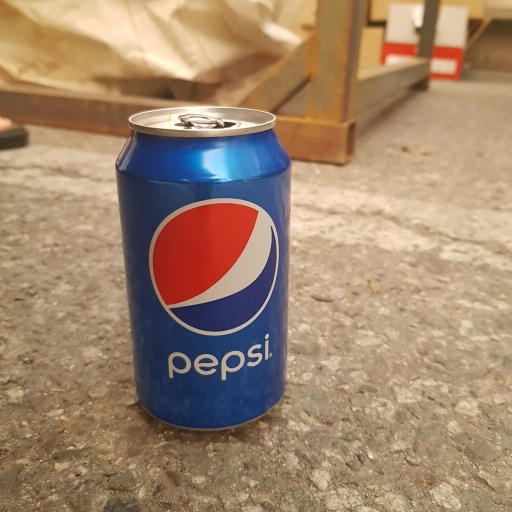Metal_0: (114, 103, 291, 437)
